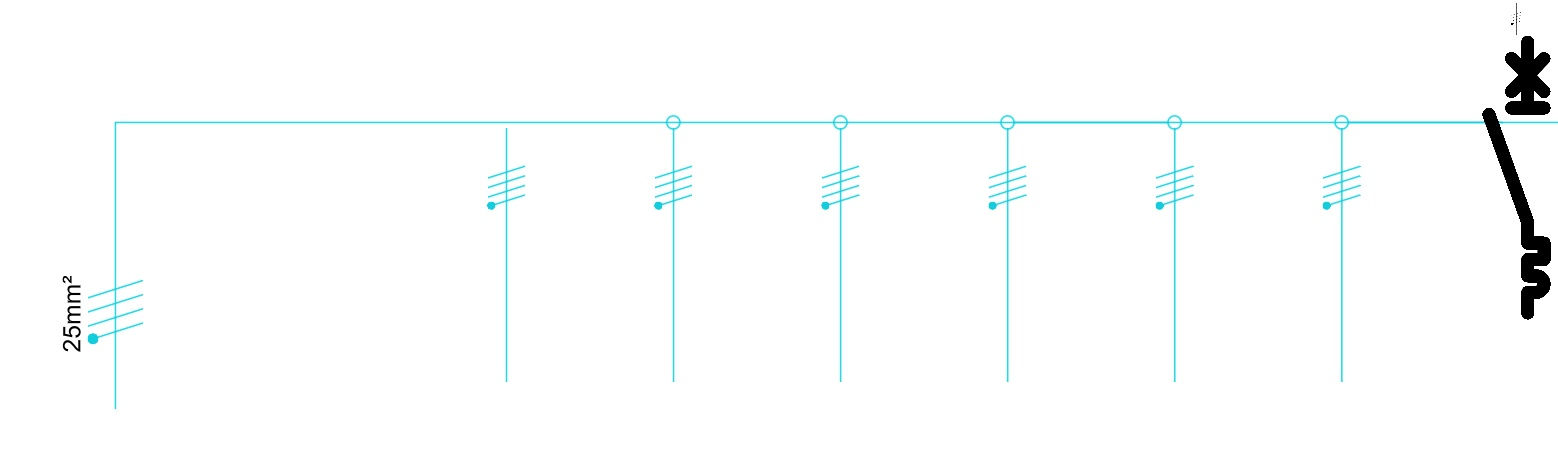interruptor_termomagnetico: (1482, 35, 1551, 320)
